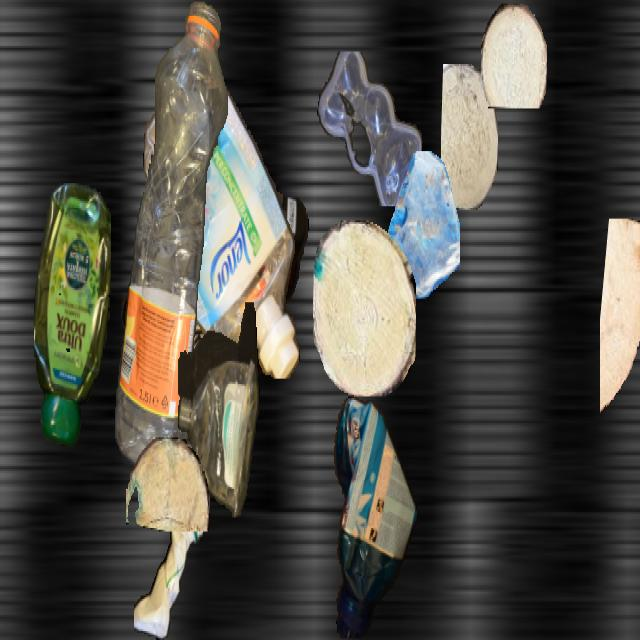glass: (377, 151, 459, 297), (0, 502, 1, 636)
plastic: (115, 2, 227, 471), (142, 71, 302, 377), (121, 197, 309, 439), (328, 393, 416, 638), (34, 183, 110, 446), (178, 302, 260, 519), (317, 52, 423, 205), (134, 489, 202, 638)
wood: (313, 220, 415, 394), (600, 219, 640, 425), (441, 64, 497, 210), (126, 437, 210, 530), (481, 3, 547, 106)
